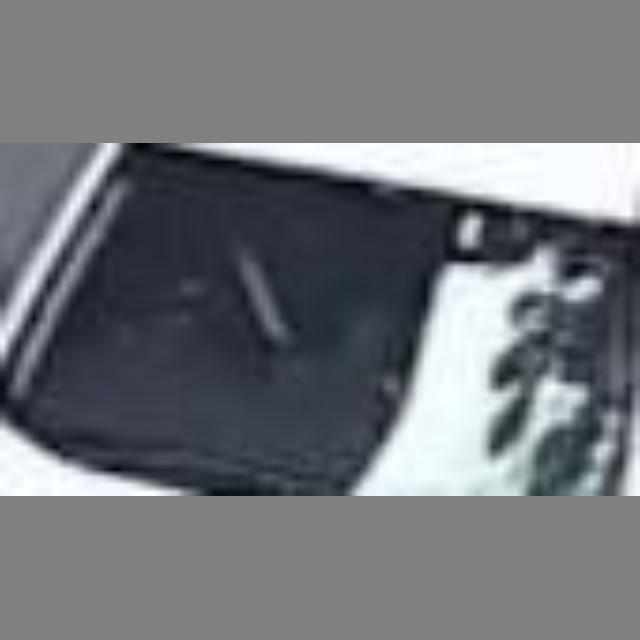pakai: (173, 181, 376, 414)
